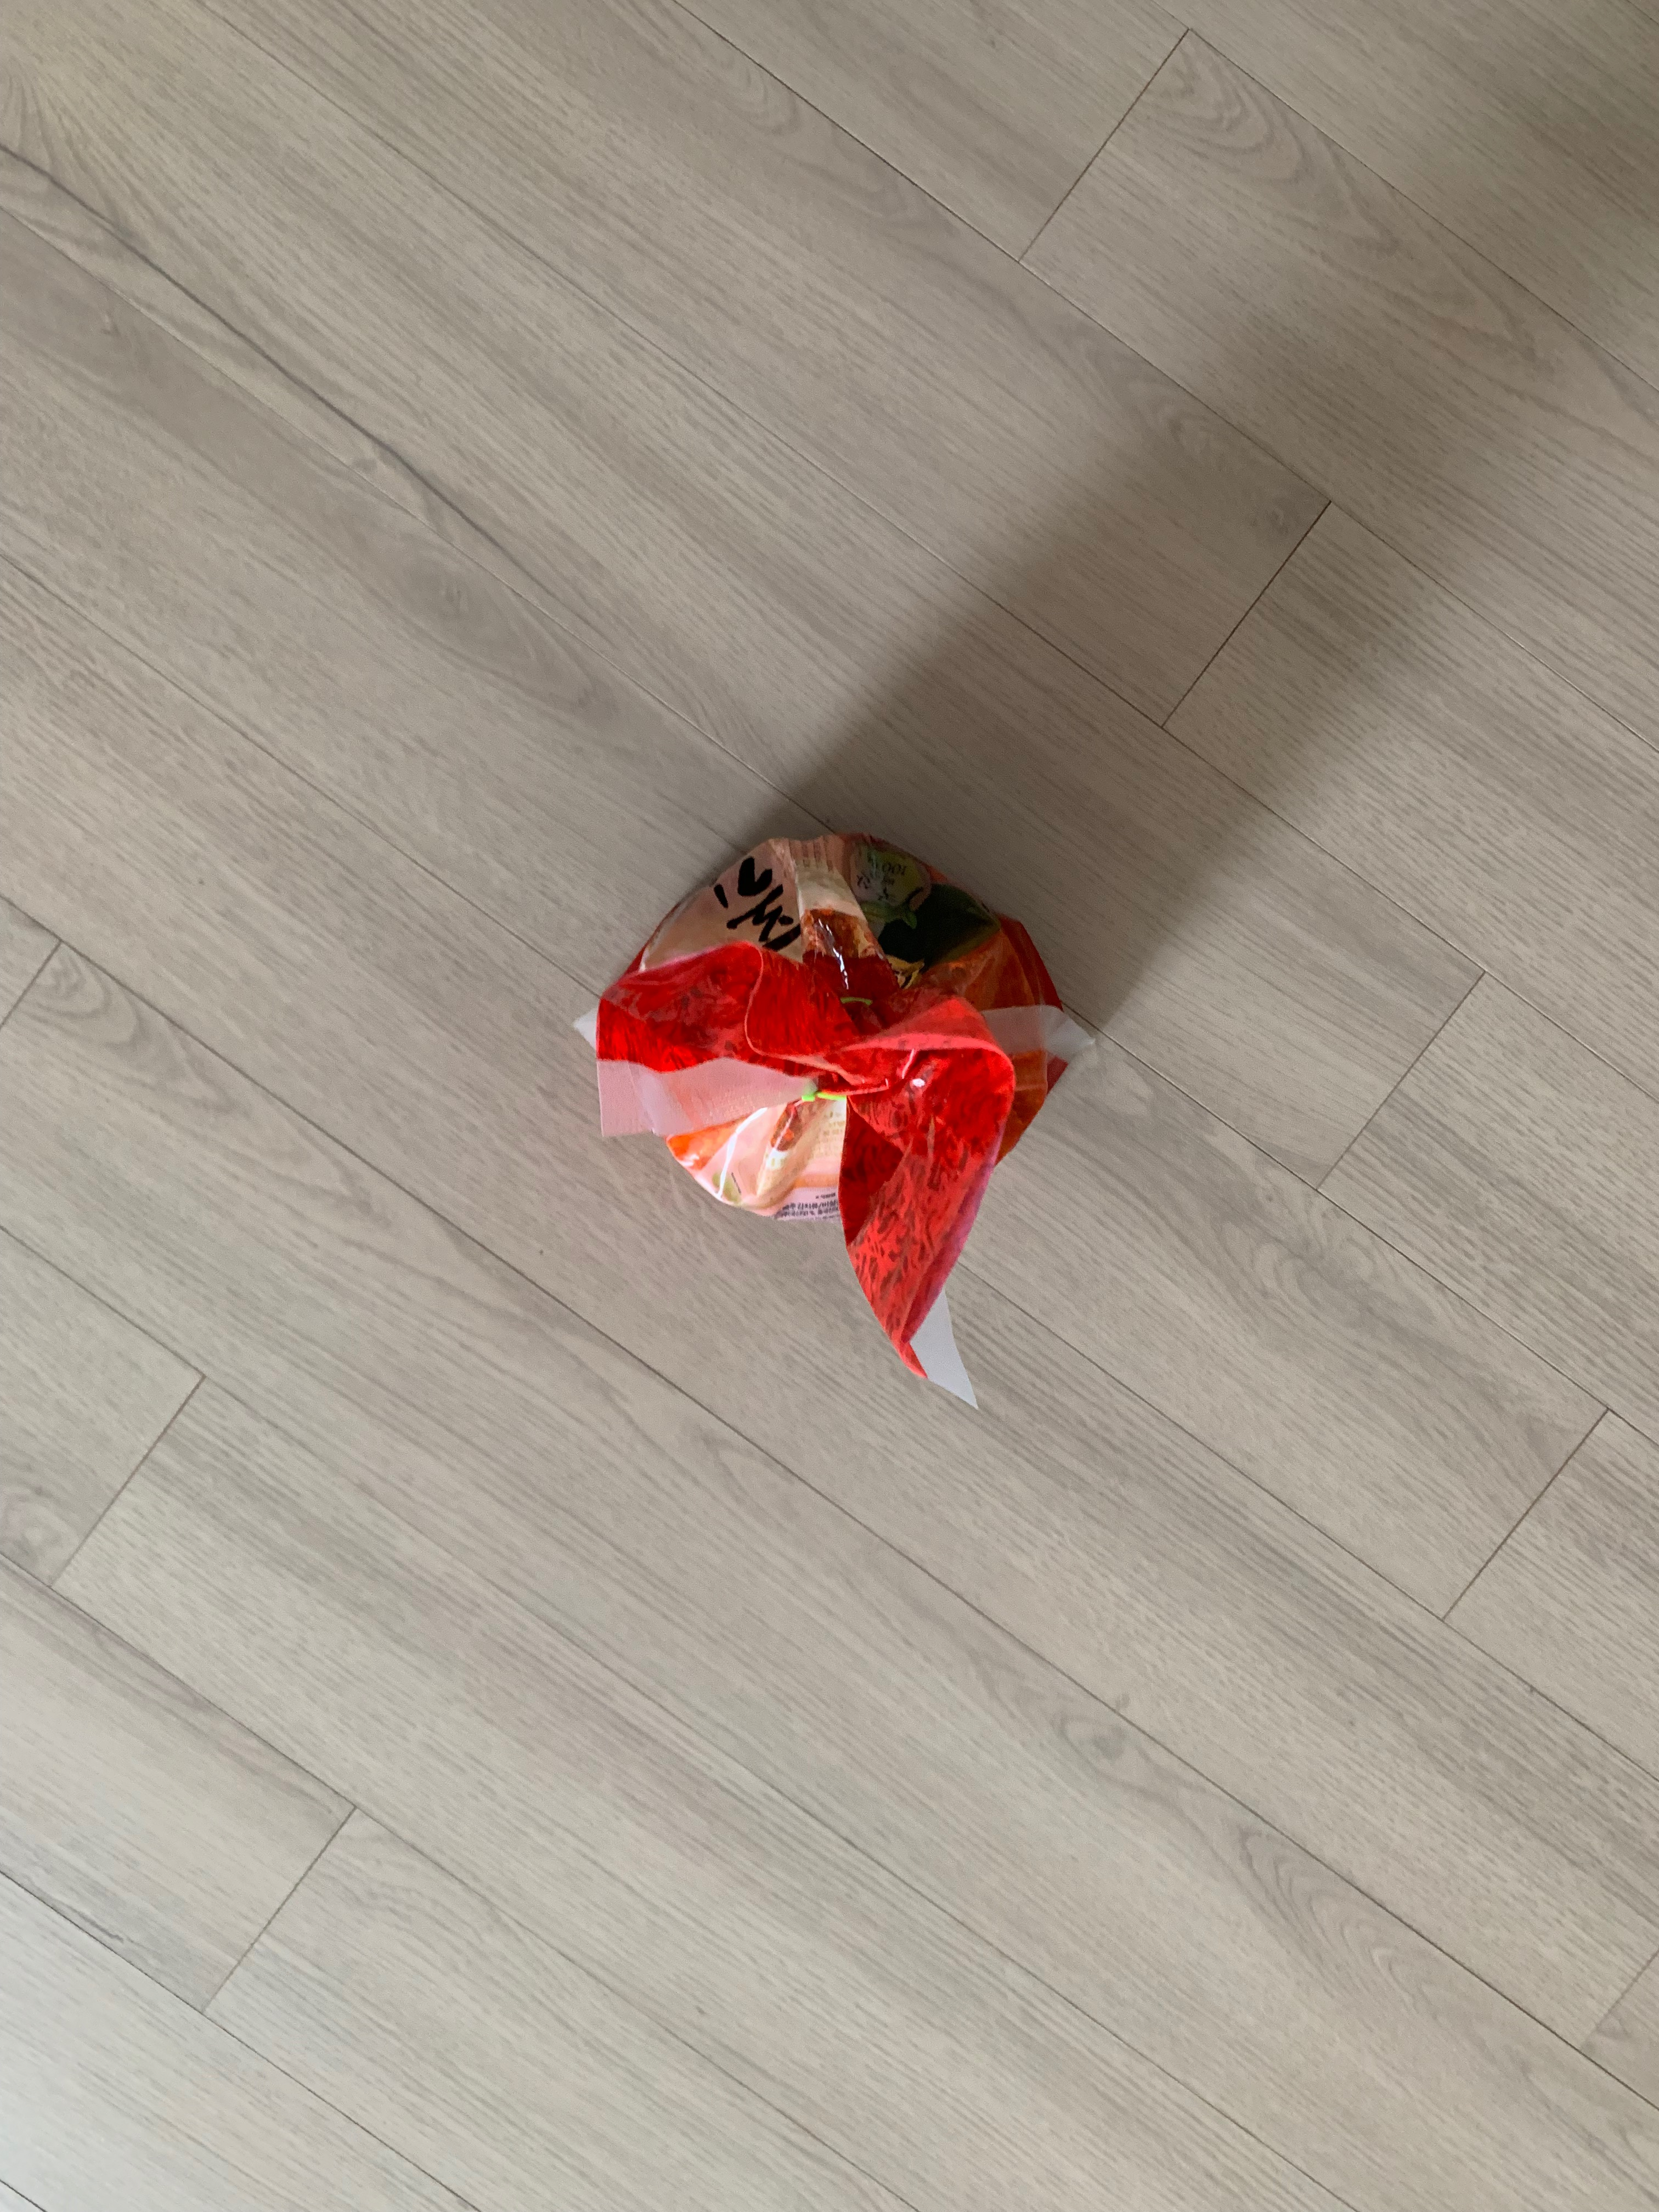kimchi: (601, 829, 1068, 1336)
